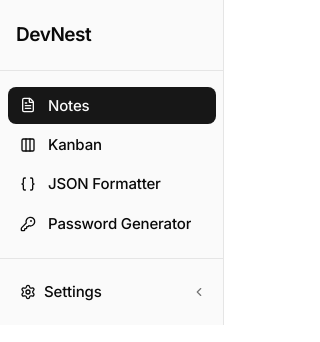
Test: <Sidebar /> › hides nav labels after collapsing
Click the button named "collapse sidebar". click: (199, 292)
box: [186, 279, 212, 305]
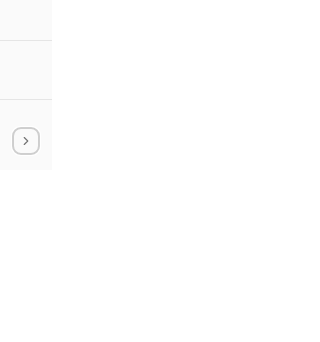
expect the link "Notes" is gone: met
